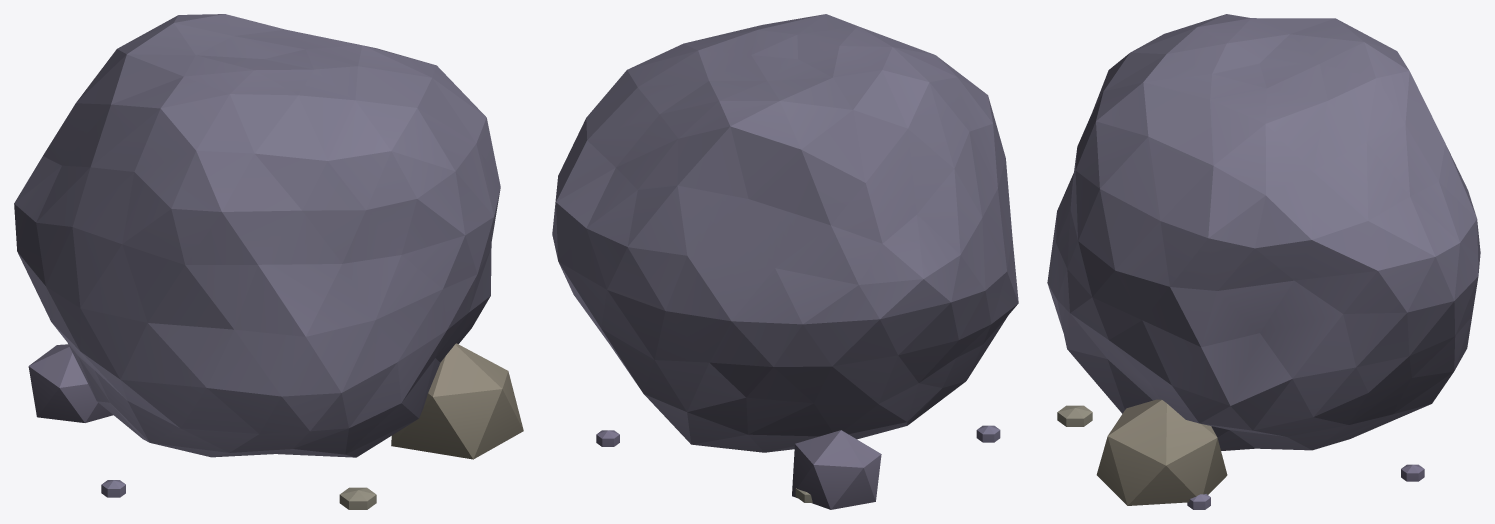
The model's file is SM_Prop_Boulder.fbx.
3 renders of one model, left to right at view 1: azimuth 30°, elevation 25°; view 2: azimuth 150°, elevation 25°; view 3: azimuth 270°, elevation 25°, orthographic. The views are drawn at different scales.
Parts seen in each view (by area): view 1: SM_Prop_Boulder; view 2: SM_Prop_Boulder; view 3: SM_Prop_Boulder.
Part boxes in pixels (left/top/right/bottom): SM_Prop_Boulder: left=14, top=14, right=523, bottom=509; SM_Prop_Boulder: left=552, top=14, right=1018, bottom=509; SM_Prop_Boulder: left=1047, top=14, right=1480, bottom=509.
Size of the model in its own units: 103 by 90.7 by 96.34.
